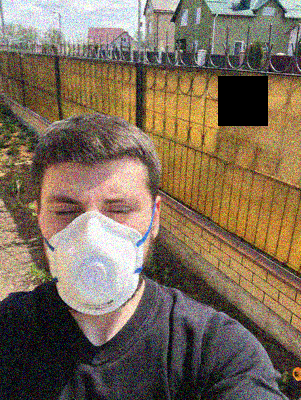with_mask: (41, 179, 150, 316)
